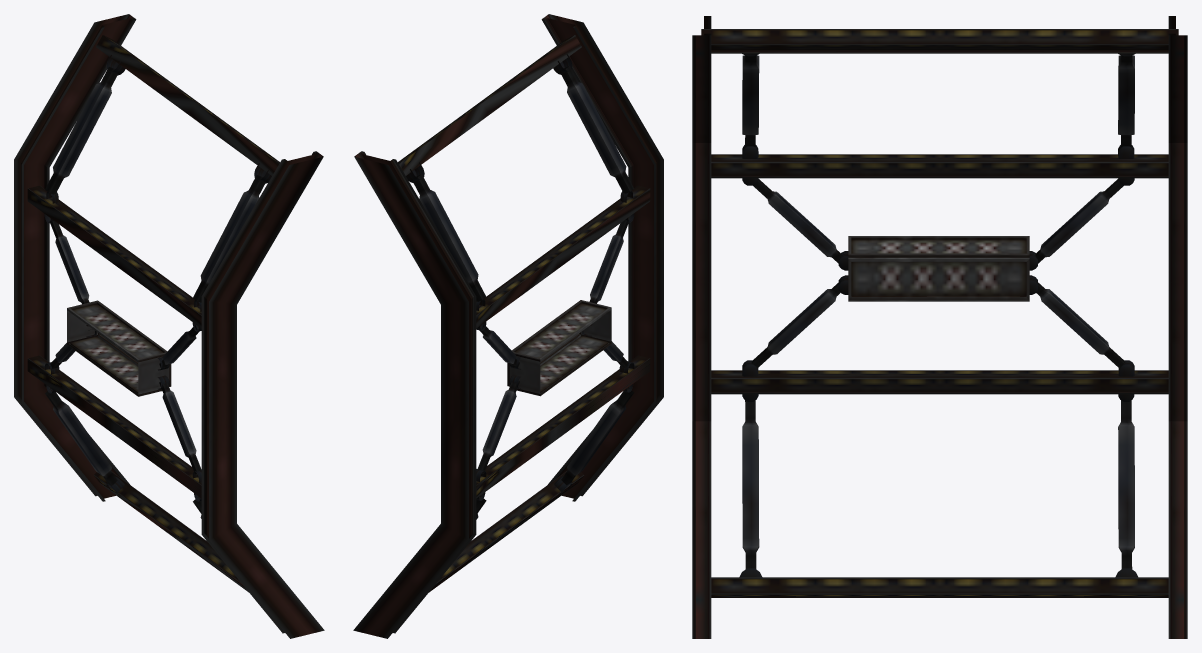
File: Beam_06.FBX
The picture shows the model from 3 angles, left to right: view 1: azimuth 30°, elevation 25°; view 2: azimuth 150°, elevation 25°; view 3: azimuth 270°, elevation 25°; orthographic projection. The views are drawn at different scales.
Parts seen in each view (by area): view 1: Beam_06; view 2: Beam_06; view 3: Beam_06.
Part boxes in pixels (x1,y1,x2,y2): Beam_06: [14, 14, 324, 638]; Beam_06: [353, 14, 663, 638]; Beam_06: [692, 16, 1187, 638].
Bounding box in the file's own units: 111 × 403 × 300.
